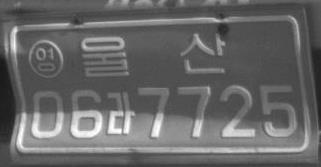0: (30, 89, 63, 140)
2: (219, 84, 255, 137)
5: (258, 83, 296, 138)
6: (70, 88, 103, 139)
7: (136, 86, 171, 139), (176, 85, 211, 138)
라: (106, 90, 134, 135)
영: (28, 38, 64, 79)
울산_D: (80, 32, 225, 79)
